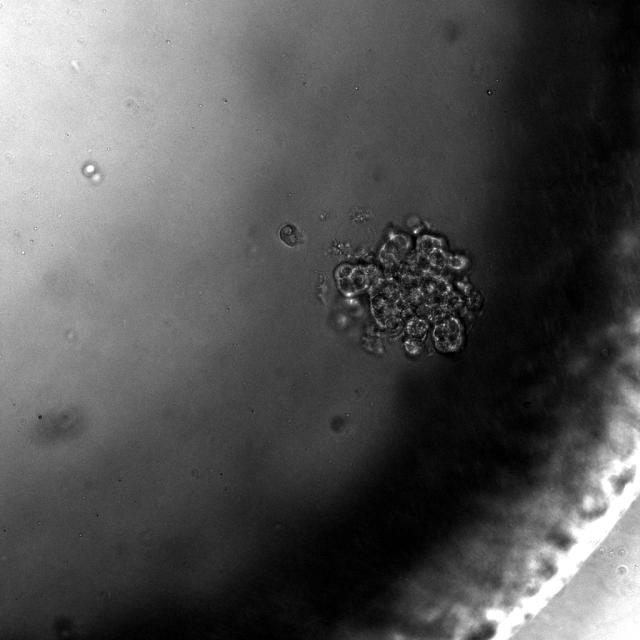organoid: (329, 217, 483, 358), (279, 223, 306, 247)
